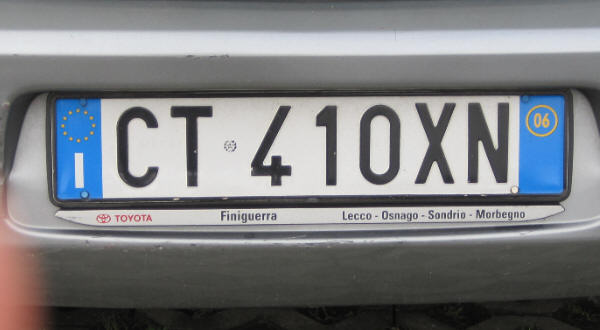license_plate: (46, 94, 573, 204)
